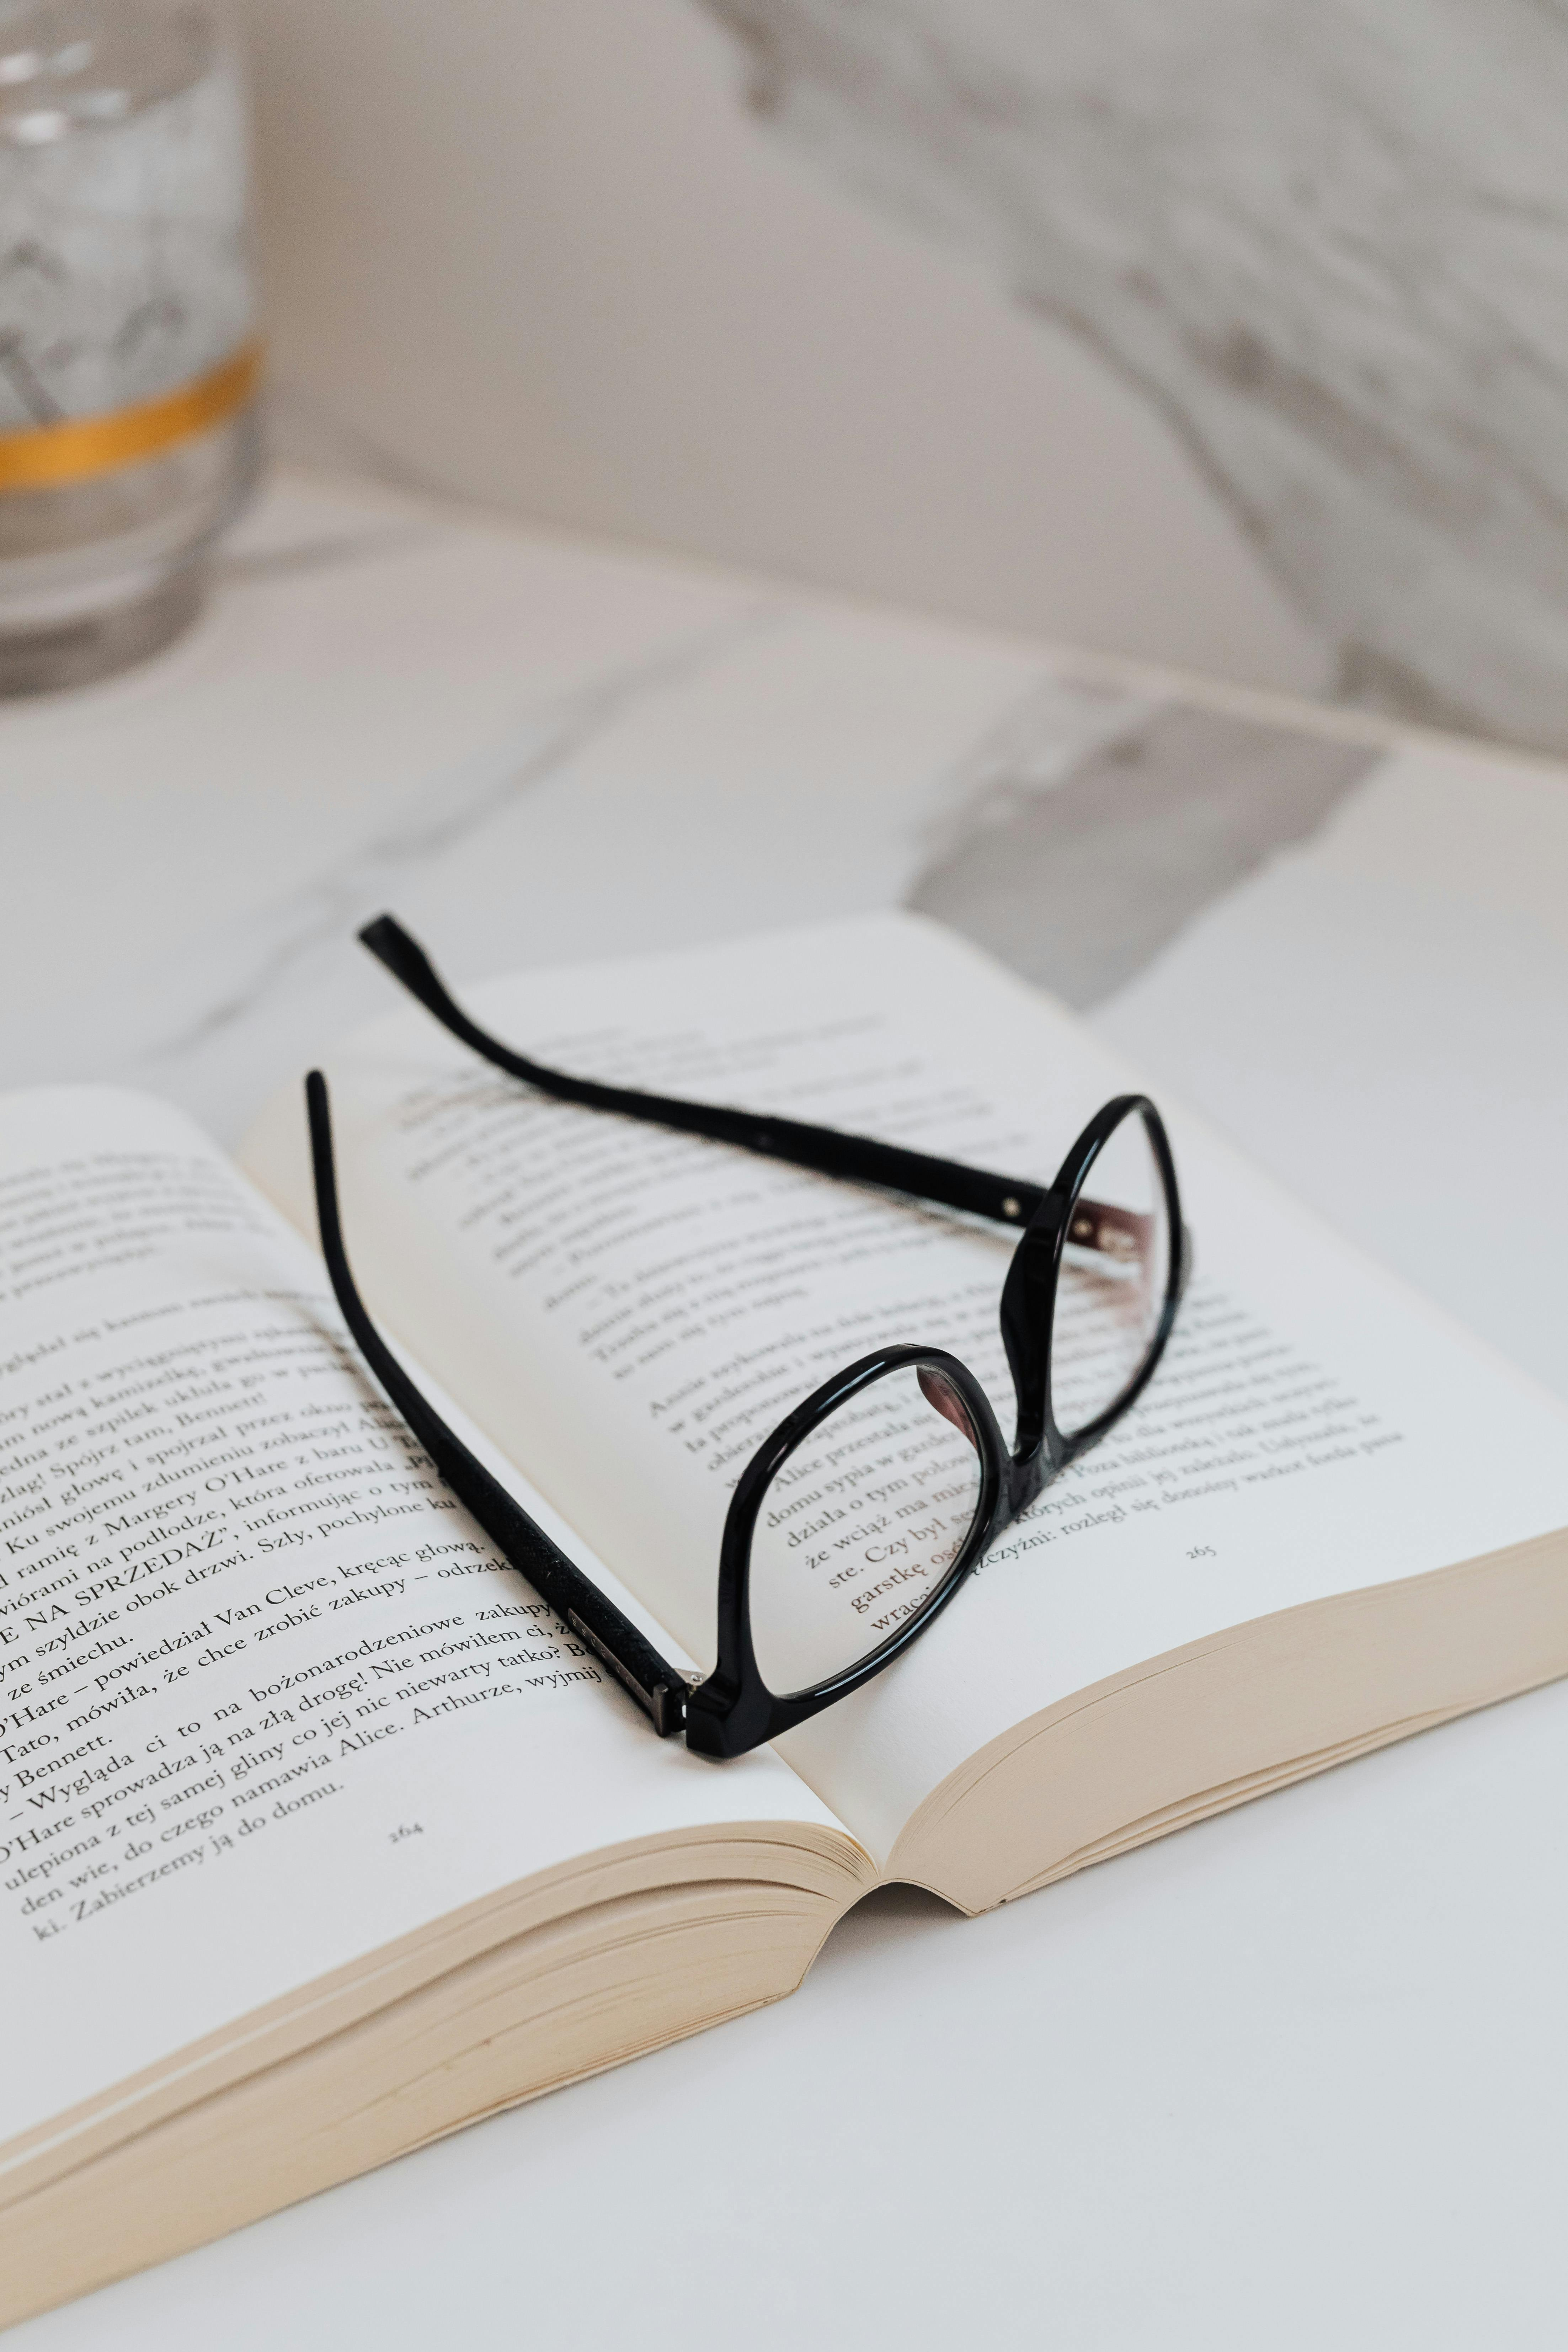book: (0, 1020, 1542, 1801)
